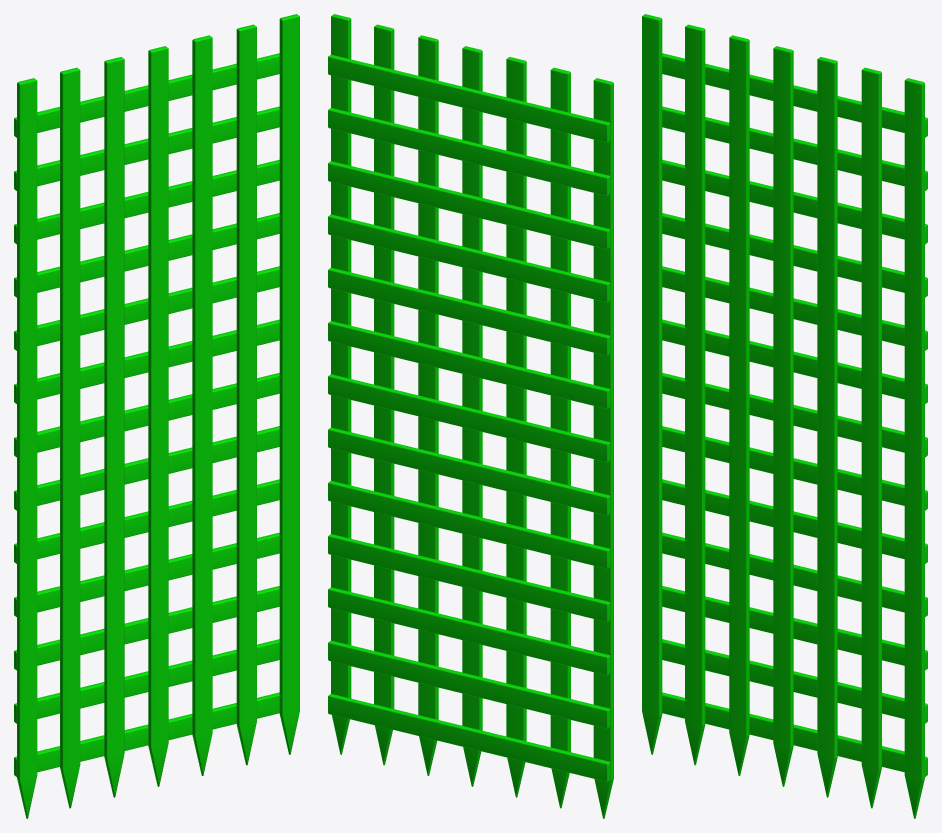
File: Door1Square3.fbx
3 renders of one model, left to right at view 1: azimuth 30°, elevation 25°; view 2: azimuth 150°, elevation 25°; view 3: azimuth 330°, elevation 25°, orthographic.
Visible parts, largest first — view 1: Door1Square3; view 2: Door1Square3; view 3: Door1Square3.
Boxes of the visible parts, x1=… form: Door1Square3: x1=14, y1=14, x2=299, y2=818; Door1Square3: x1=328, y1=14, x2=613, y2=818; Door1Square3: x1=642, y1=14, x2=927, y2=818.
Bounding box in the file's own units: 110 × 277 × 4.48.
